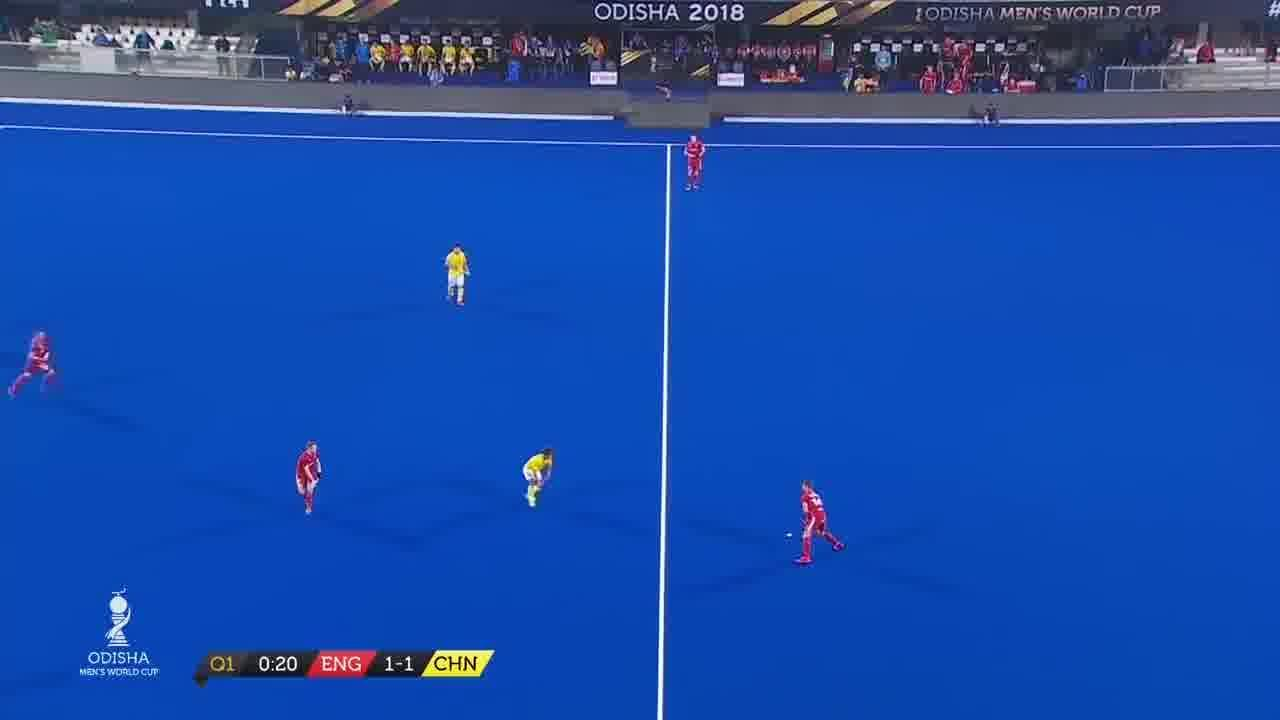ball: (781, 526, 798, 544)
